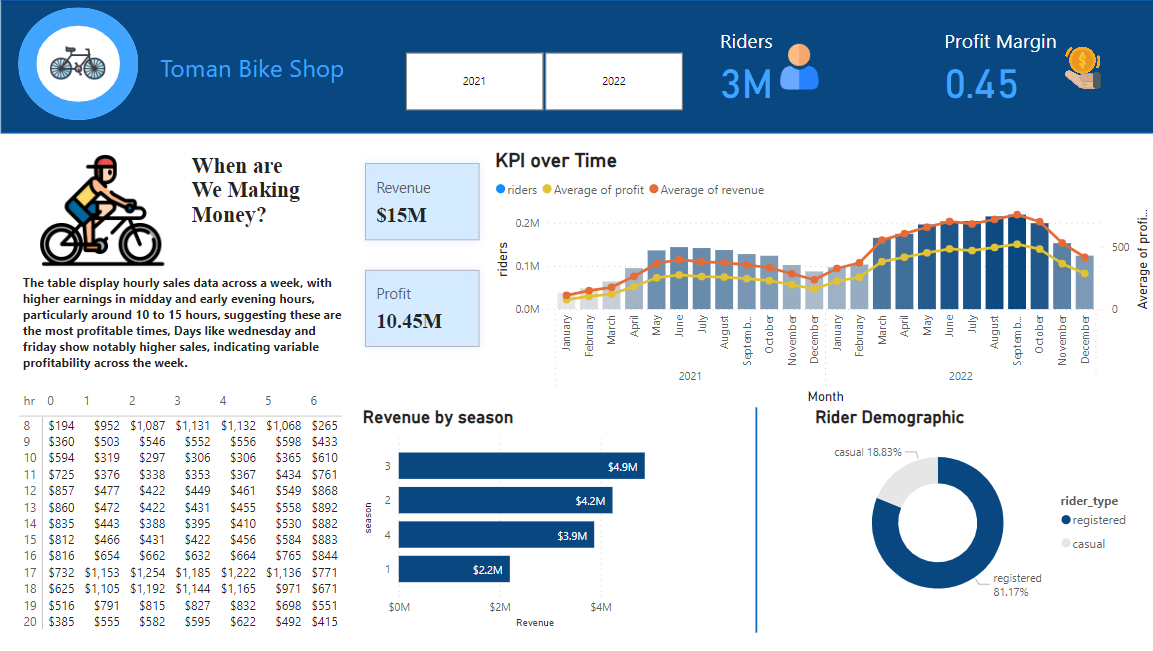

The dashboard page shown, as its layout file describes it:
{"tool":"powerbi","page":{"name":"Page 1","canvas":[1280,720],"ordinal":0},"visuals":[{"type":"shape","box":[9.7,0,1270.9,146.9],"z":0},{"type":"image","box":[48.5,146.9,146.9,169.1],"z":1000},{"type":"pivotTable","fields":{"Rows":["Query1.hr"],"Values":["Avg(Query1.revenue)"],"Columns":["Query1.weekday"]},"box":[24.8,426.9,375.9,283.7],"z":2000},{"type":"textbox","box":[215.4,164.3,137.3,107.7],"z":3000},{"type":"textbox","box":[28.3,297.6,366.3,121.2],"z":4000},{"type":"lineClusteredColumnComboChart","title":"KPI over Time","fields":{"Category":["Query1.dteday.Variation.Date Hierarchy.Year","Query1.dteday.Variation.Date Hierarchy.Month","Query1.dteday.Variation.Date Hierarchy.Day"],"Y":["Sum(Query1.riders)"],"Y2":["Avg(Query1.profit)","Avg(Query1.revenue)"]},"box":[549.4,163.9,731.2,286.4],"z":5000},{"type":"clusteredBarChart","fields":{"Category":["Query1.season"],"Y":["Sum(Query1.revenue)"]},"box":[403.4,448.9,362.1,247.9],"z":6000},{"type":"donutChart","title":"Rider Demographic","fields":{"Y":["Sum(Query1.riders)"],"Category":["Query1.rider_type"]},"box":[901.9,448.9,362.1,232.7],"z":7000},{"type":"shape","box":[692.6,448.9,298.8,247.9],"z":8000},{"type":"cardVisual","title":"KPI over Time","fields":{"Data":["Sum(Query1.revenue)","Sum(Query1.profit)"]},"box":[395.2,163.9,158.3,235.5],"z":9000},{"type":"cardVisual","fields":{"Data":["Sum(Query1.riders)","Query1.profit margin"]},"box":[784.9,8.3,495.7,130.8],"z":10000},{"type":"shape","box":[28.9,8.3,132.2,123.9],"z":10001},{"type":"image","box":[59.2,31.7,70.2,75.7],"z":10002},{"type":"textbox","box":[180.4,50.9,249.2,46.8],"z":10003},{"type":"slicer","fields":{"Values":["Query1.Year"]},"box":[429.6,50.9,355.3,77.1],"z":10004}]}

Visuals, with their boxes in screenshot pixels (x1, y1, x2, y2), scaled from the page's 1280x720 canvas onto the 1153x651 screenshot:
shape: left=9, top=0, right=1152, bottom=133
image: left=44, top=133, right=176, bottom=286
pivotTable - Query1.hr x Avg(Query1.revenue): left=22, top=386, right=361, bottom=643
textbox: left=194, top=149, right=318, bottom=246
textbox: left=25, top=269, right=355, bottom=379
"KPI over Time" lineClusteredColumnComboChart: left=495, top=148, right=1152, bottom=407
clusteredBarChart - Query1.season x Sum(Query1.revenue): left=363, top=406, right=690, bottom=630
"Rider Demographic" donutChart: left=812, top=406, right=1139, bottom=616
shape: left=624, top=406, right=893, bottom=630
"KPI over Time" cardVisual: left=356, top=148, right=499, bottom=361
cardVisual - Sum(Query1.riders) x Query1.profit margin: left=707, top=8, right=1152, bottom=126
shape: left=26, top=8, right=145, bottom=120
image: left=53, top=29, right=117, bottom=97
textbox: left=163, top=46, right=387, bottom=88
slicer - Query1.Year: left=387, top=46, right=707, bottom=116
